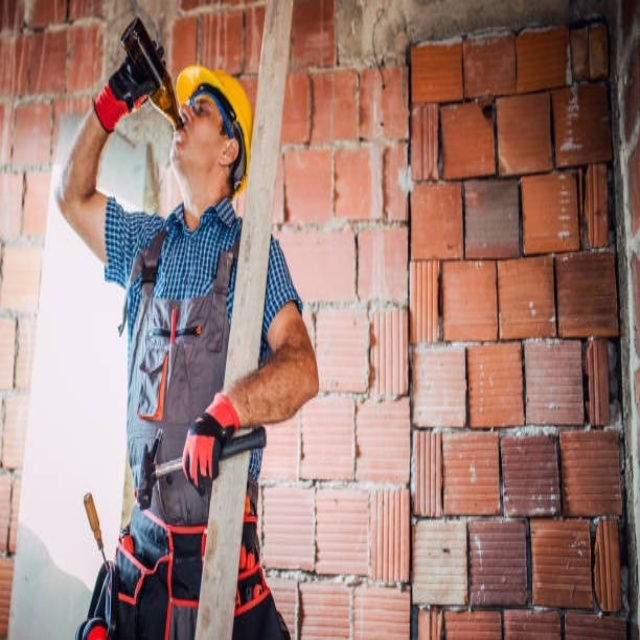Gafas: (181, 91, 233, 139)
Guantes: (93, 24, 165, 132), (182, 394, 242, 491)
Sin_mascara: (169, 122, 188, 157)
